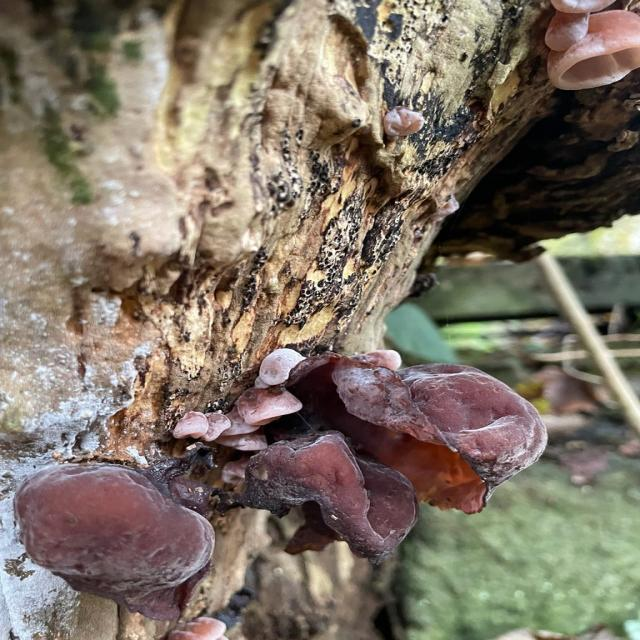Fase Muda: (545, 0, 639, 94)
Matang: (216, 357, 566, 550), (19, 459, 219, 631)
